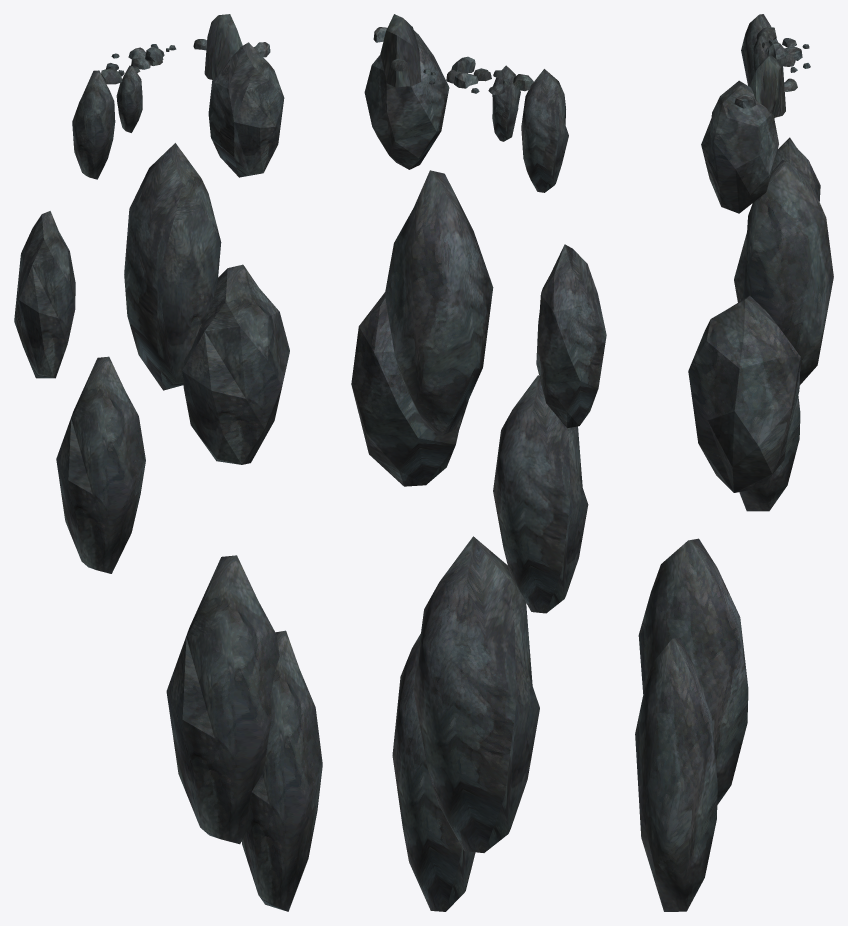
Rendered from object_rubble.fbx.
3 views of the same model, side by side, from view 1: azimuth 30°, elevation 25°; view 2: azimuth 150°, elevation 25°; view 3: azimuth 270°, elevation 25° (orthographic). The views are drawn at different scales.
Parts seen in each view (by area): view 1: object_rubble-0; view 2: object_rubble-0; view 3: object_rubble-0.
Boxes of the visible parts, x1,y1,x2,y2 form: object_rubble-0: [14, 14, 322, 911]; object_rubble-0: [351, 14, 606, 911]; object_rubble-0: [635, 14, 833, 911].
Size of the model in its own units: 16.97 by 56.47 by 11.97.
